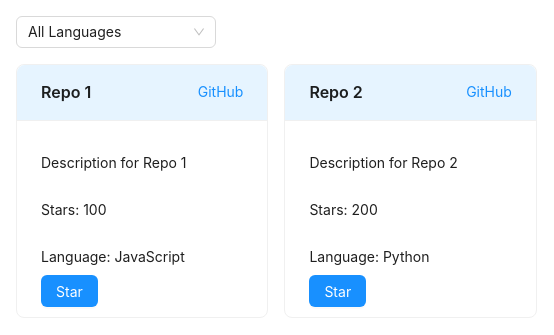
Test: stars and unstars a repository
The width and height of the screenshot is (554, 335).
Expected: the text "Repo 1" is shown, [41,82,91,102]
Expected: the text "Repo 2" is shown, [309,82,363,102]
Click the button "Star" below "JavaScript". click: (69, 291)
box: [41,275,98,307]
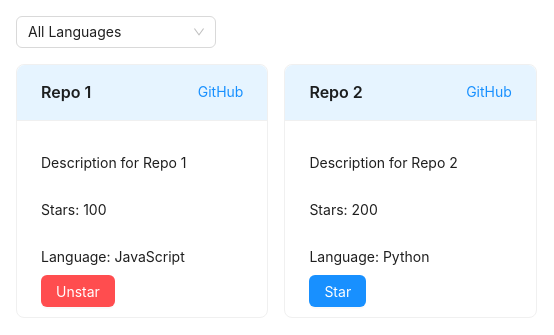
Result: the text "star" reads "Unstar" at [56,282,100,300]
Click the button "Unstar". click: (78, 291)
box: [41,275,115,307]
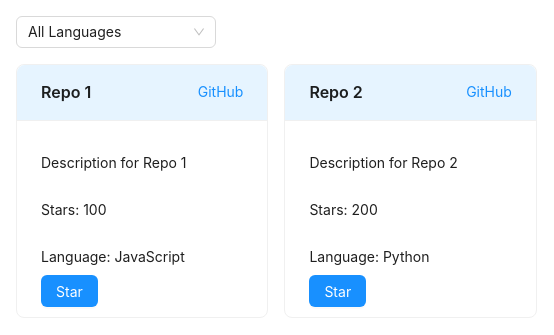
Result: the text "Star" below "JavaScript" is shown at [56,282,83,300]
